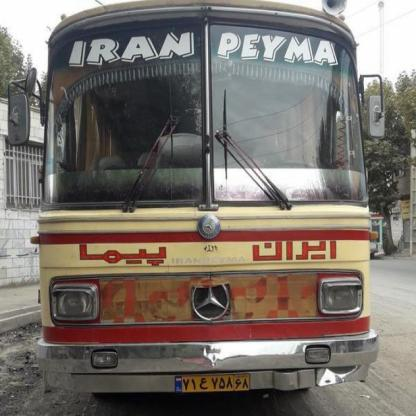Bus: (37, 11, 380, 404)
